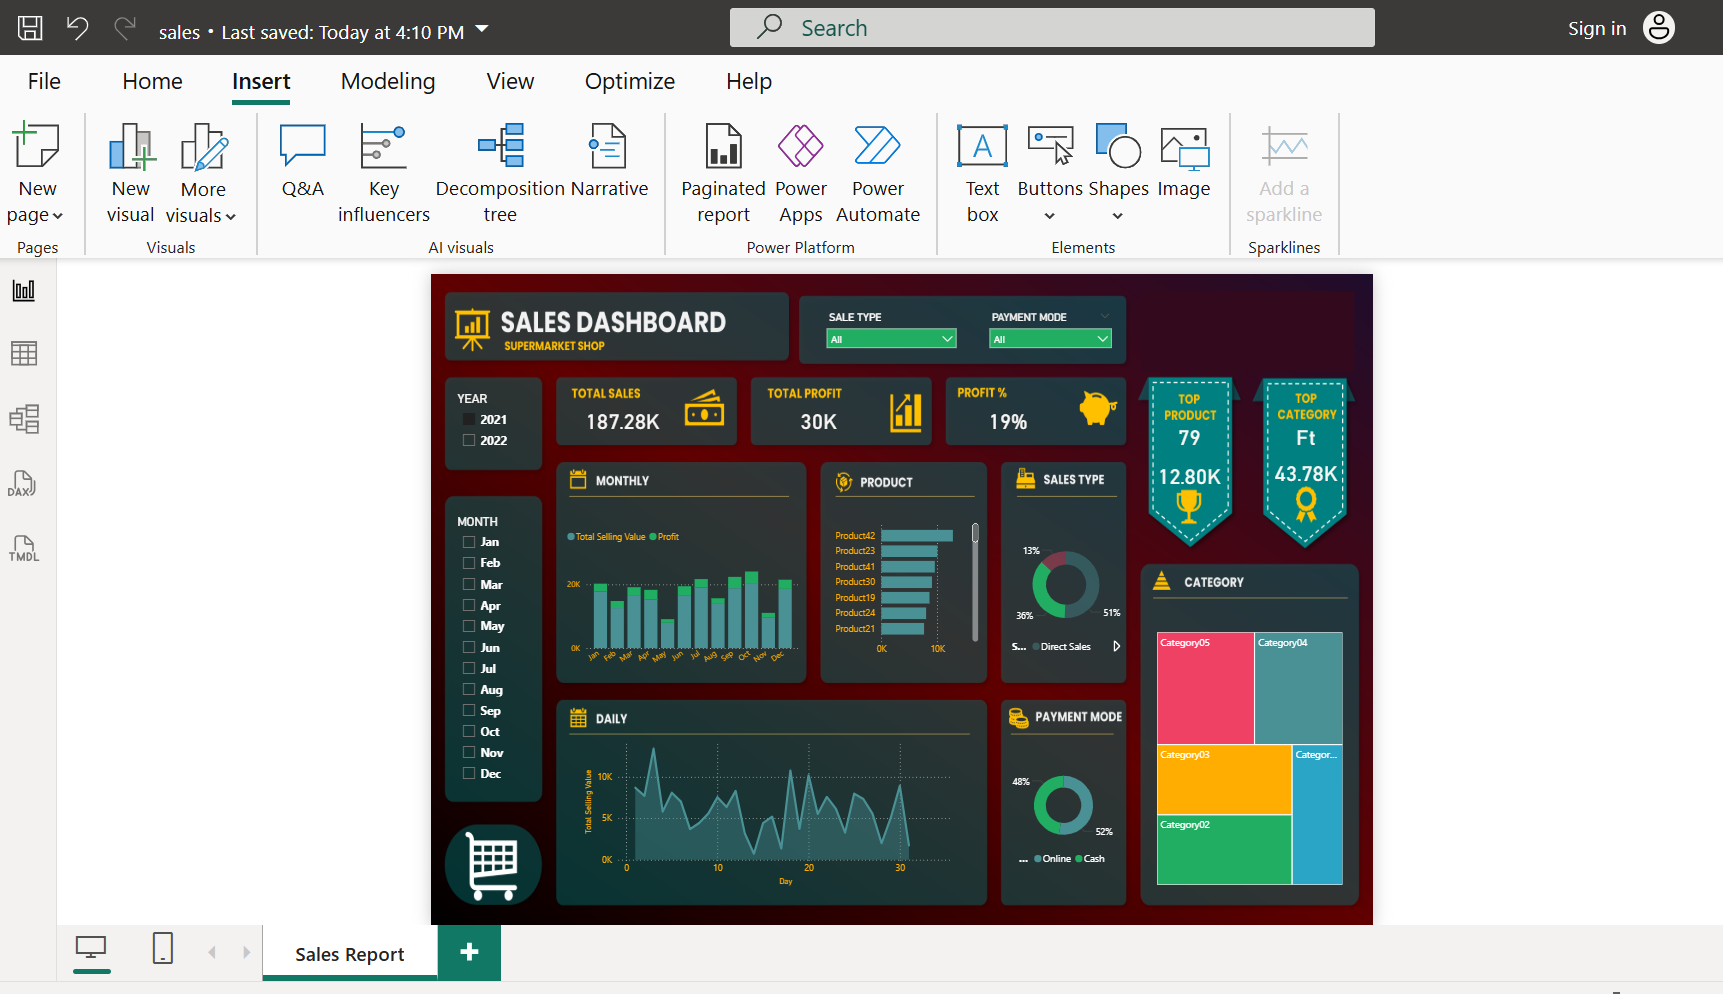

What the dashboard file says about the page in this screenshot:
{"tool":"powerbi","page":{"name":"Sales Report","canvas":[1298,900],"ordinal":0},"visuals":[{"type":"slicer","title":"YEAR","fields":{"Values":["InputData.Year"]},"box":[31.9,161.2,111.6,93.9],"z":0},{"type":"slicer","title":"MONTH","fields":{"Values":["InputData.Month Name"]},"box":[31.9,331.3,111.6,377.4],"z":1000},{"type":"slicer","fields":{"Values":["InputData.SALE TYPE"]},"box":[535,46.1,198.4,67.3],"z":2000},{"type":"slicer","fields":{"Values":["InputData.PAYMENT MODE"]},"box":[760,46.1,187.8,67.3],"z":3000},{"type":"card","fields":{"Values":["Sum(InputData.Total Selling Value)"]},"box":[178.9,161.2,168.3,78],"z":4000},{"type":"card","fields":{"Values":["InputData.Profit"]},"box":[451.8,161.2,166.5,78],"z":5000},{"type":"card","fields":{"Values":["InputData.Profit %"]},"box":[710.4,161.2,168.3,78],"z":6000},{"type":"card","fields":{"Values":["Sum(InputData.Total Selling Value)"]},"box":[995.7,255.1,99.2,42.5],"z":7000},{"type":"card","fields":{"Values":["Sum(InputData.Total Selling Value)"]},"box":[1151.6,248,109.8,49.6],"z":8000},{"type":"card","fields":{"Values":["Sum(InputData.QUANTITY)"]},"box":[995.7,200.2,99.2,47.8],"z":9000},{"type":"card","fields":{"Values":["Min(InputData.MasterData.UOM)"]},"box":[1151.6,200.2,109.8,47.8],"z":10000},{"type":"columnChart","title":"Total Selling Value and Profit by Month Name","fields":{"Category":["InputData.Month Name"],"Y":["Sum(InputData.Total Selling Value)","InputData.Profit"]},"box":[182.5,341.9,329.5,205.5],"z":11000},{"type":"clusteredBarChart","fields":{"Y":["Sum(InputData.Total Selling Value)"],"Category":["InputData.MasterData.PRODUCT"]},"box":[547.4,331.3,212.6,205.5],"z":12000},{"type":"areaChart","fields":{"Y":["Sum(InputData.Total Selling Value)"],"Category":["InputData.Day"]},"box":[207.3,632.5,517.3,214.4],"z":13000},{"type":"donutChart","fields":{"Category":["InputData.SALE TYPE"],"Y":["Sum(InputData.Total Selling Value)"]},"box":[795.5,354.3,159.4,178.9],"z":14000},{"type":"donutChart","fields":{"Category":["InputData.PAYMENT MODE"],"Y":["Sum(InputData.Total Selling Value)"]},"box":[795.5,667.9,152.4,155.9],"z":15000},{"type":"treemap","fields":{"Group":["InputData.MasterData.CATEGORY"],"Values":["Sum(InputData.Total Selling Value)"]},"box":[995.7,489,265.7,357.9],"z":16000}]}

Visuals, with their boxes in screenshot pixels (x1, y1, x2, y2):
"YEAR" slicer: 313, 176, 435, 278
"MONTH" slicer: 313, 362, 435, 774
slicer - InputData.SALE TYPE: 862, 50, 1079, 124
slicer - InputData.PAYMENT MODE: 1108, 50, 1313, 124
card - Sum(InputData.Total Selling Value): 473, 176, 657, 261
card - InputData.Profit: 771, 176, 953, 261
card - InputData.Profit %: 1054, 176, 1237, 261
card - Sum(InputData.Total Selling Value): 1365, 278, 1473, 325
card - Sum(InputData.Total Selling Value): 1535, 271, 1655, 325
card - Sum(InputData.QUANTITY): 1365, 219, 1473, 271
card - Min(InputData.MasterData.UOM): 1535, 219, 1655, 271
"Total Selling Value and Profit by Month Name" columnChart: 477, 373, 837, 597
clusteredBarChart - Sum(InputData.Total Selling Value) x InputData.MasterData.PRODUCT: 876, 362, 1108, 586
areaChart - Sum(InputData.Total Selling Value) x InputData.Day: 504, 690, 1069, 924
donutChart - InputData.SALE TYPE x Sum(InputData.Total Selling Value): 1146, 387, 1320, 582
donutChart - InputData.PAYMENT MODE x Sum(InputData.Total Selling Value): 1146, 729, 1313, 899
treemap - InputData.MasterData.CATEGORY x Sum(InputData.Total Selling Value): 1365, 534, 1655, 924
